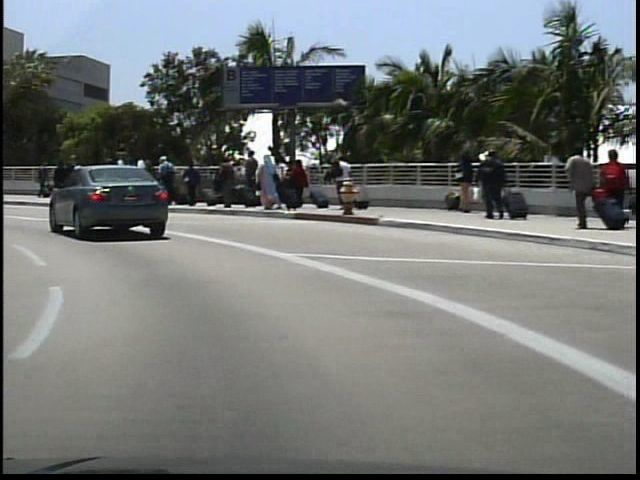person: (562, 145, 595, 230), (594, 146, 626, 227), (472, 147, 503, 219), (48, 152, 77, 211), (55, 152, 84, 205), (328, 151, 353, 207), (30, 159, 49, 201)
